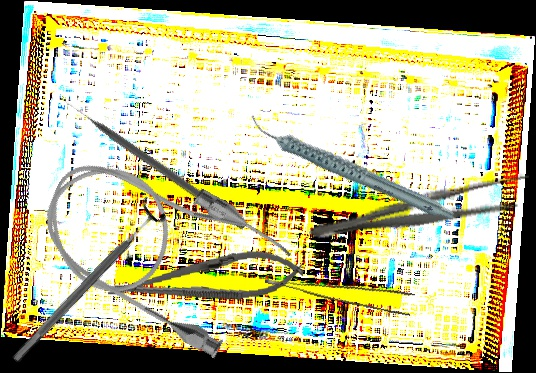Cannula: (21, 126, 298, 367)
Dressing Forceps: (305, 168, 536, 254)
Fixation Ring: (2, 195, 170, 371)
Handpiece: (246, 76, 458, 260)
Needle Holder: (104, 243, 306, 315)
Pusher: (62, 95, 249, 231)
Tissue Forceps: (264, 253, 416, 324)
